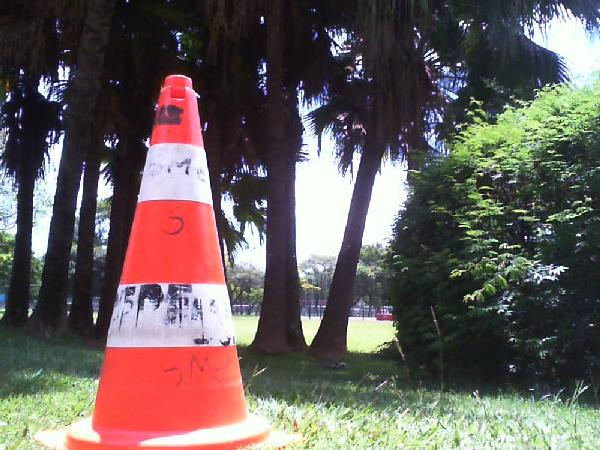0 cone: (34, 76, 302, 450)
